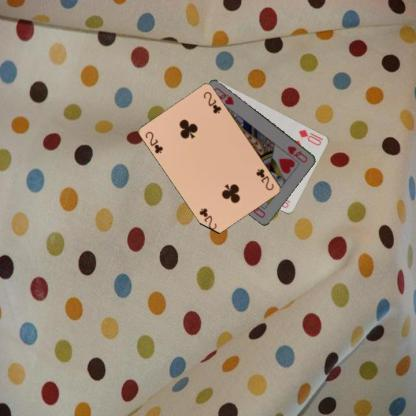10d: (296, 126, 325, 146)
2c: (142, 129, 165, 155), (254, 166, 276, 192)
Qh: (284, 143, 309, 164)
